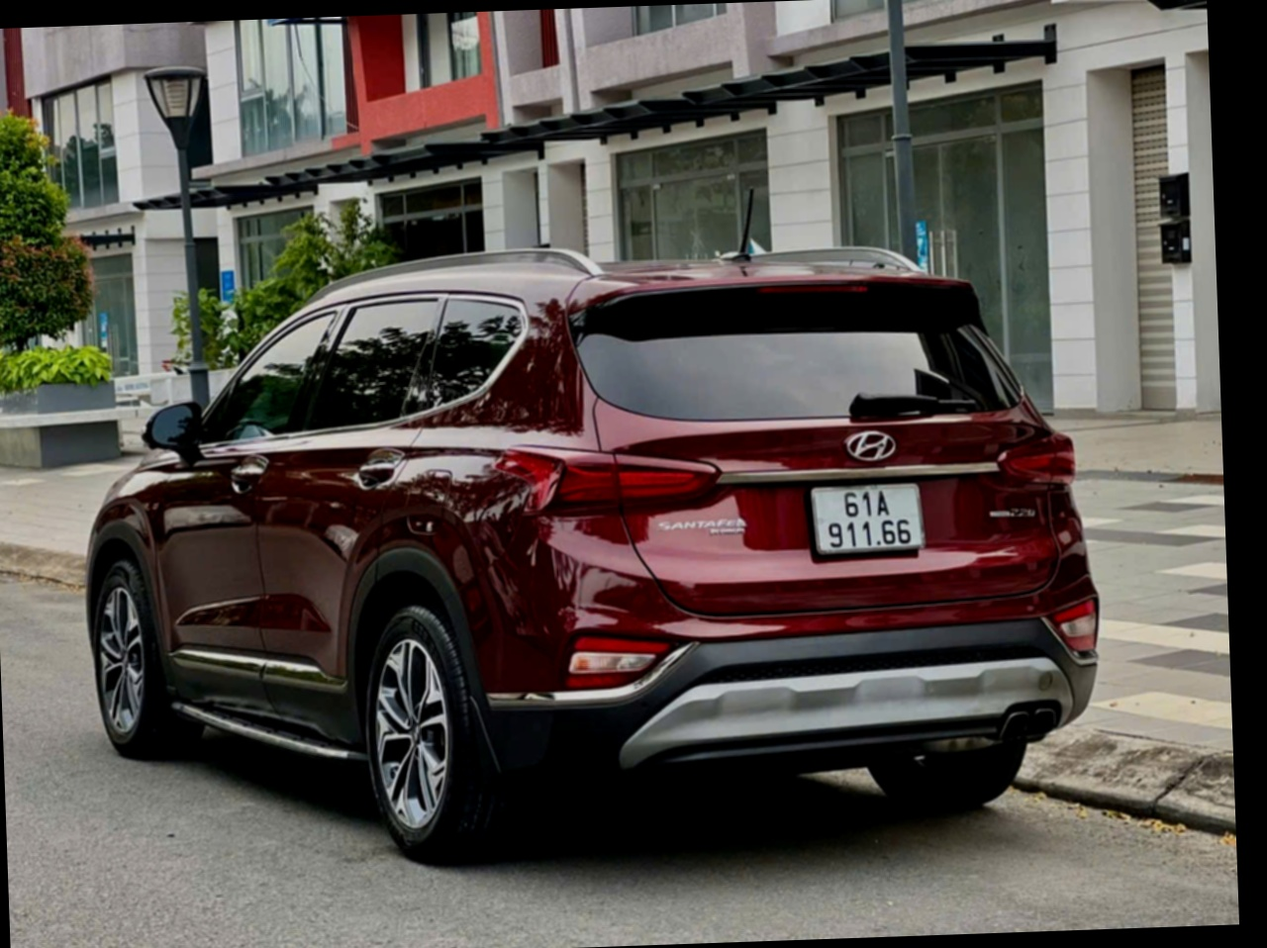Bien-so: (828, 489, 935, 565)
